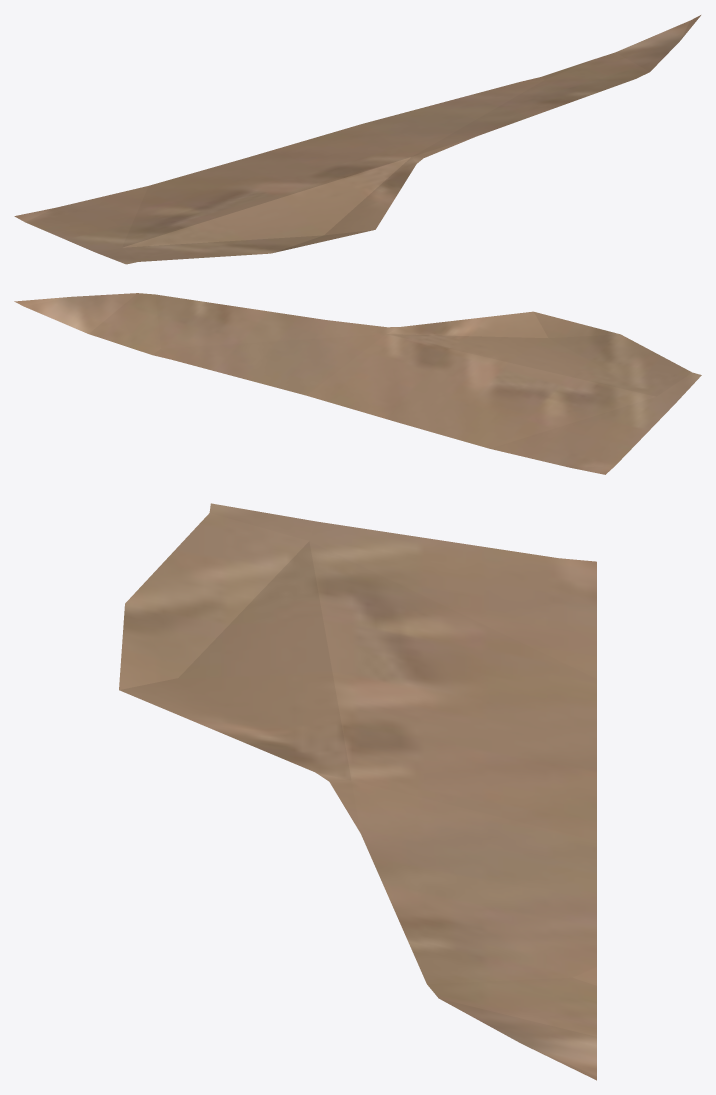
The picture shows the model from 3 angles, top to bottom: view 1: azimuth 30°, elevation 25°; view 2: azimuth 150°, elevation 25°; view 3: azimuth 270°, elevation 25°; orthographic projection. The views are drawn at different scales.
Size of the model in its own units: 0.6661 by 0.0336 by 0.2332.
1 material, 1 textured.
